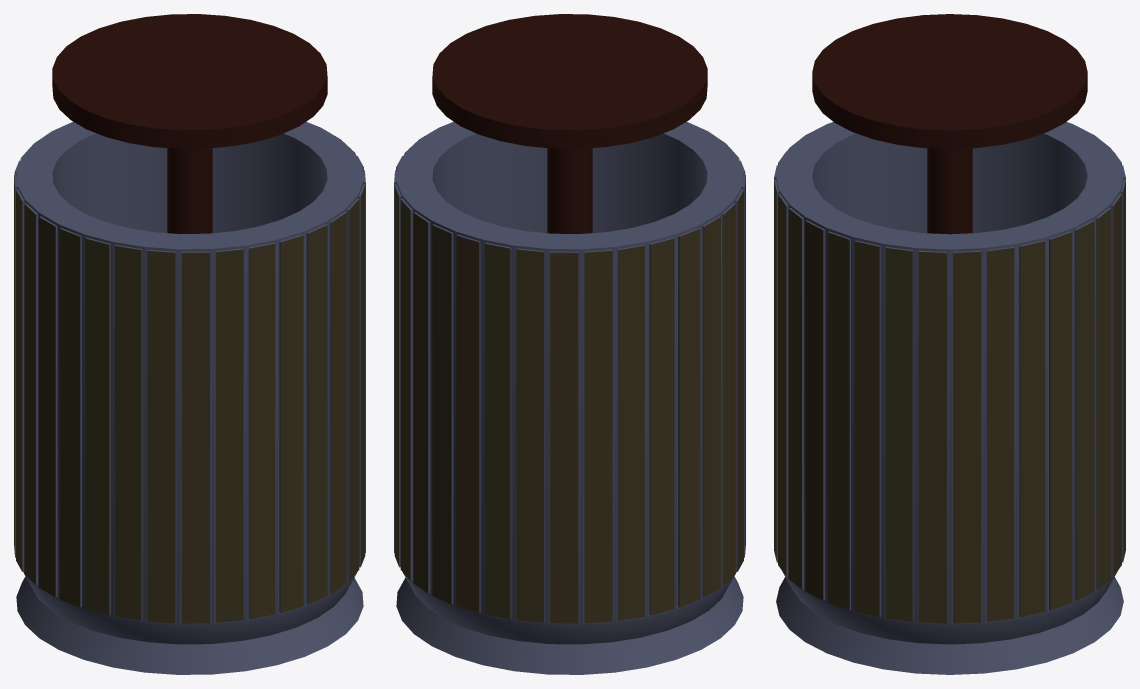
Rendered from bin.glb.
3 renders of one model, left to right at view 1: azimuth 30°, elevation 25°; view 2: azimuth 150°, elevation 25°; view 3: azimuth 270°, elevation 25°, orthographic.
Visible parts, largest first — view 1: Dustbin.001; view 2: Dustbin.001; view 3: Dustbin.001.
Part boxes in pixels (x1,y1,x2,y2): Dustbin.001: [14, 14, 365, 674]; Dustbin.001: [394, 14, 745, 674]; Dustbin.001: [774, 14, 1125, 674].
Size of the model in its own units: 0.1402 by 0.2327 by 0.1402.
